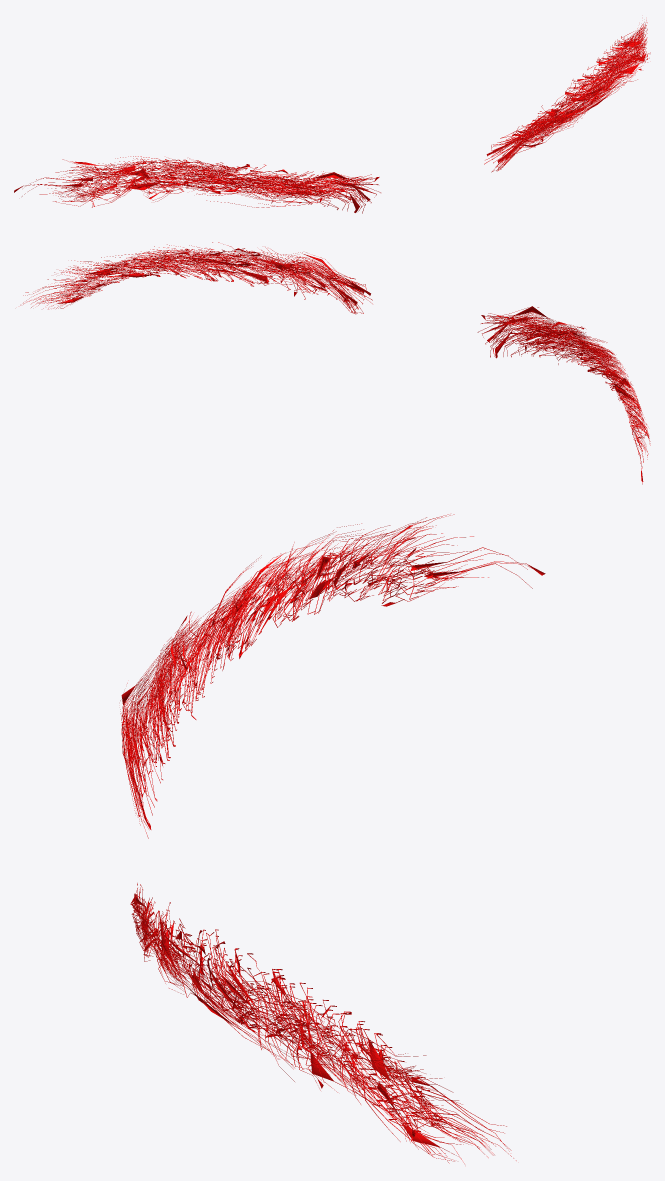
The model's file is mindfront_eyebrows_08_M.glb.
3 renders of one model, top to bottom at view 1: azimuth 30°, elevation 25°; view 2: azimuth 150°, elevation 25°; view 3: azimuth 270°, elevation 25°, orthographic. The views are drawn at different scales.
Size of the model in its own units: 0.1271 by 0.0137 by 0.0372.
Materials: 1 (1 with a texture image).
